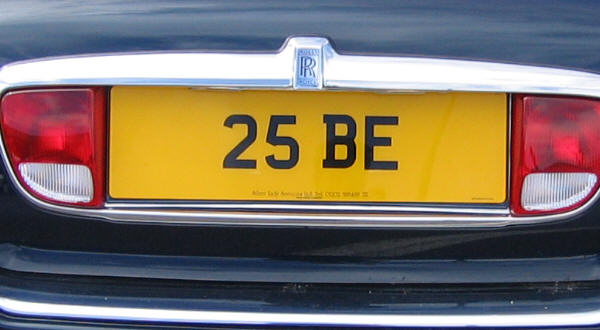license_plate: (107, 85, 514, 207)
